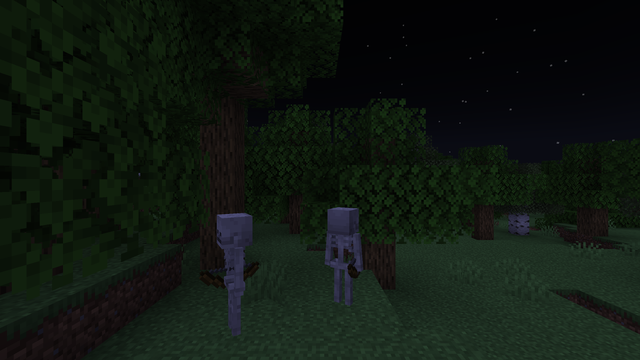squelettes: (209, 213, 254, 339), (328, 207, 358, 308)
